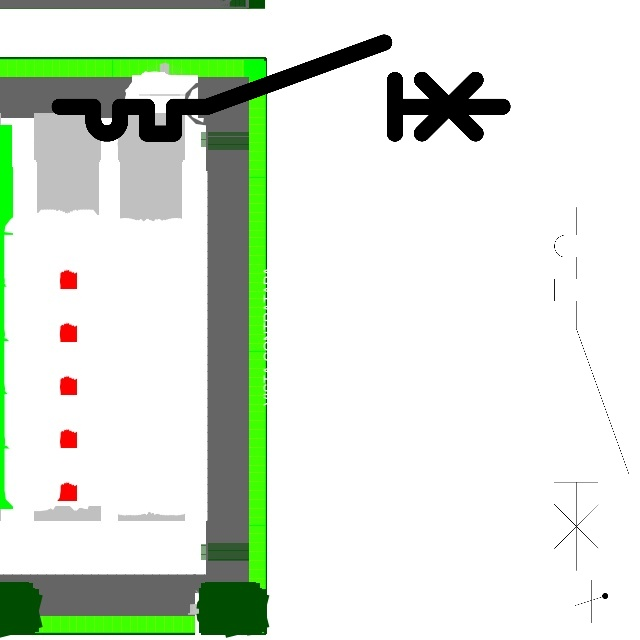interruptor_termomagnetico: (48, 31, 514, 145), (545, 198, 638, 580)
